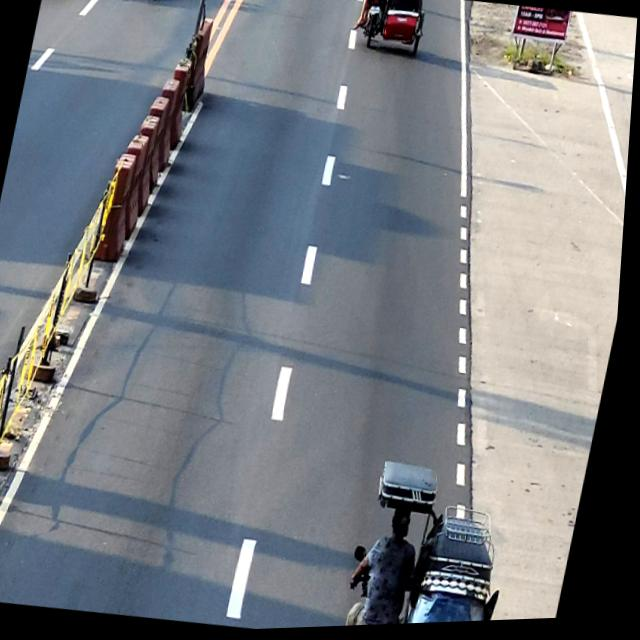License-Plate: (369, 8, 381, 18)
Tricycle: (347, 458, 525, 629), (357, 0, 430, 62)
